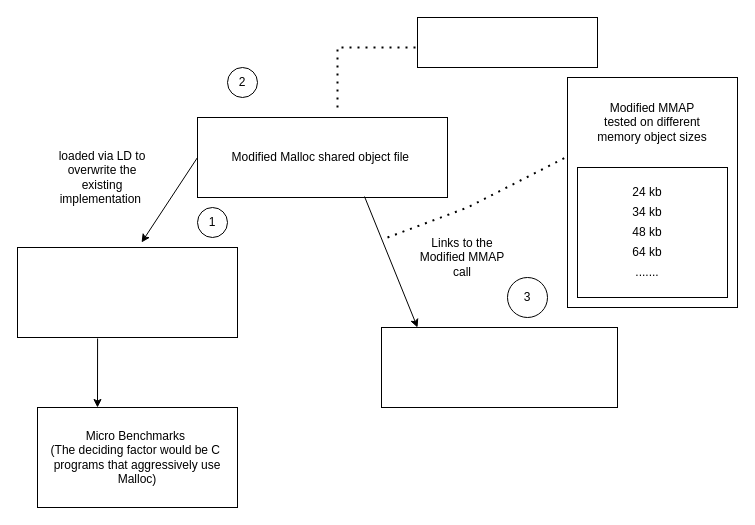
Image size: 755x525. Some labels were removed from this diagram. The box of each missing label's shape, as (x1, y1, x2, y2) in pixels:
C program (Pure Cap Binary): (16, 246, 238, 338)
Different Cherified memory allocators.: (416, 16, 598, 68)
The Range TLB implementation: (380, 326, 618, 408)
